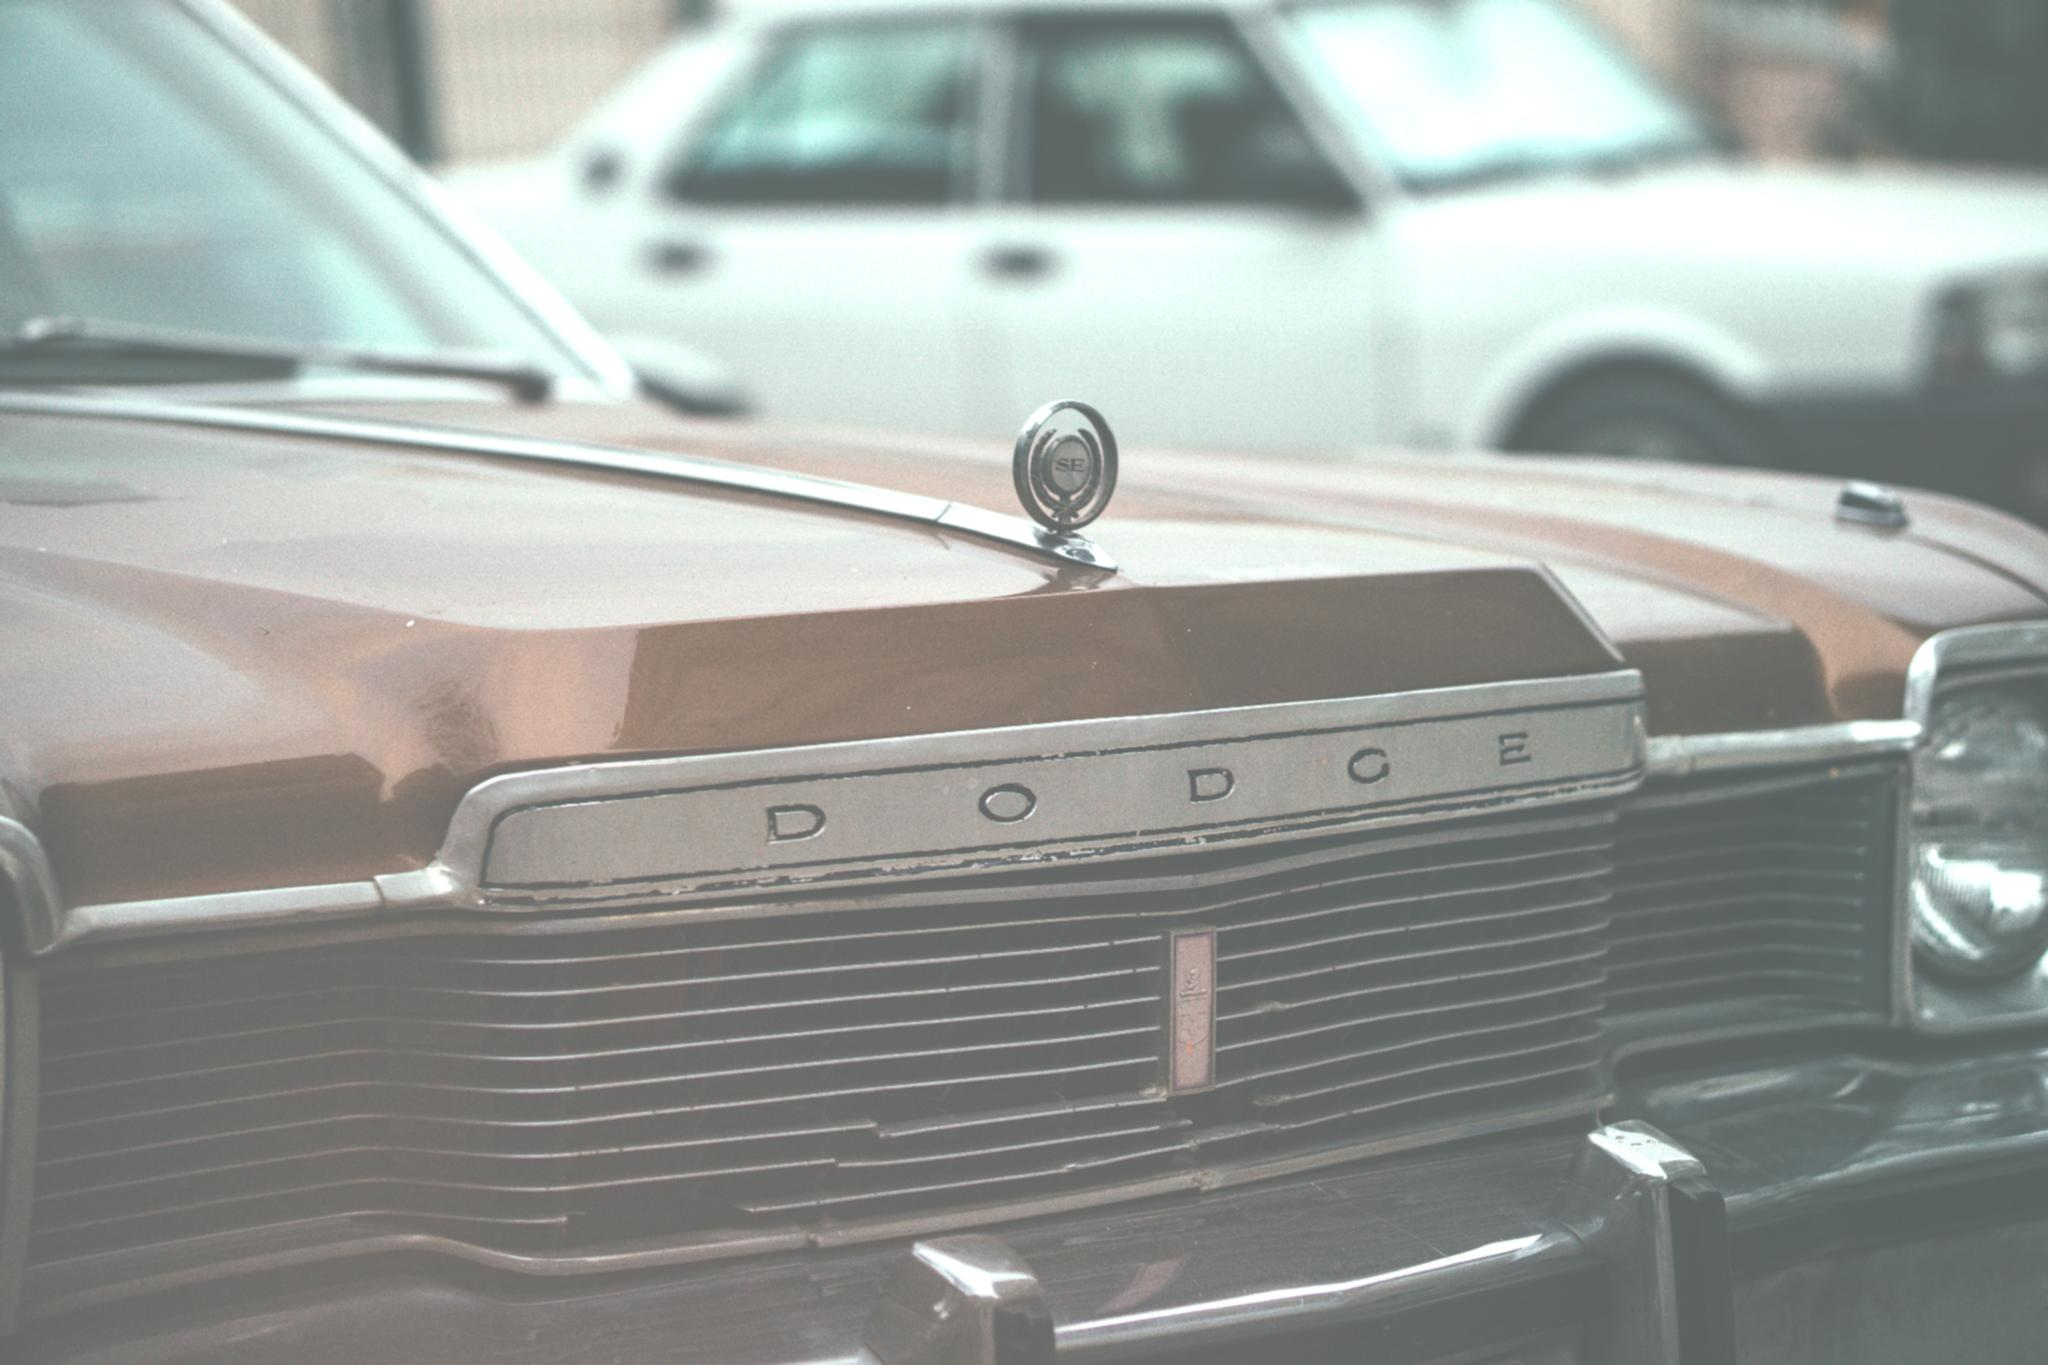dodge: (707, 679, 1591, 876)
